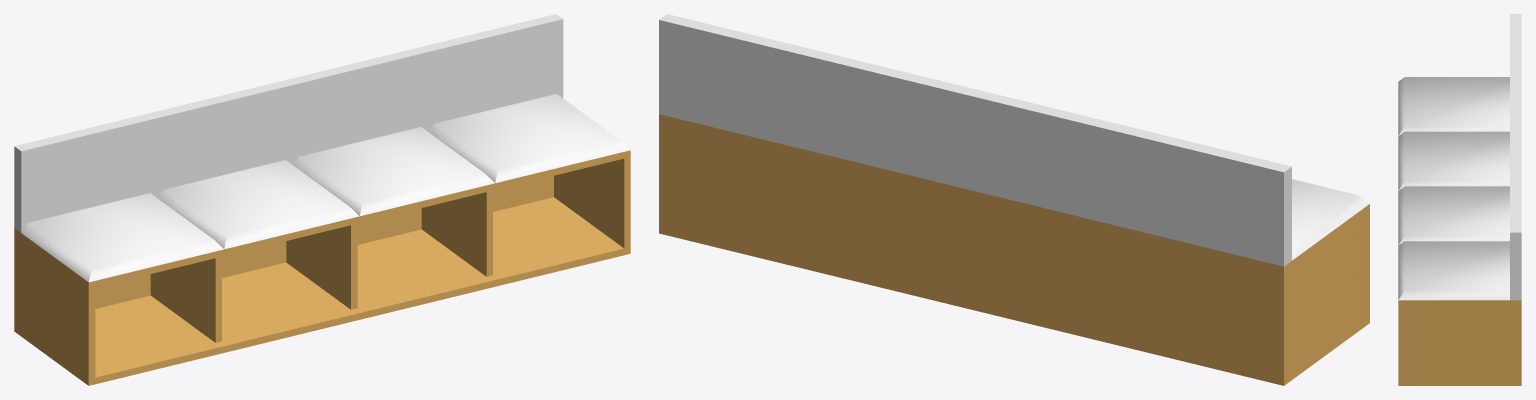
File: tv_wall_002.glb
3 renders of one model, left to right at view 1: azimuth 30°, elevation 25°; view 2: azimuth 150°, elevation 25°; view 3: azimuth 270°, elevation 25°, orthographic. The views are drawn at different scales.
Parts seen in each view (by area): view 1: tv_wall_002; view 2: tv_wall_002; view 3: tv_wall_002.
Part boxes in pixels (box(x1,y1,x2,y2)): tv_wall_002: box(14, 14, 630, 385); tv_wall_002: box(659, 14, 1369, 385); tv_wall_002: box(1398, 14, 1521, 385).
Size of the model in its own units: 2.46 by 0.8019 by 0.5843.
Materials: 1 (1 with a texture image).
